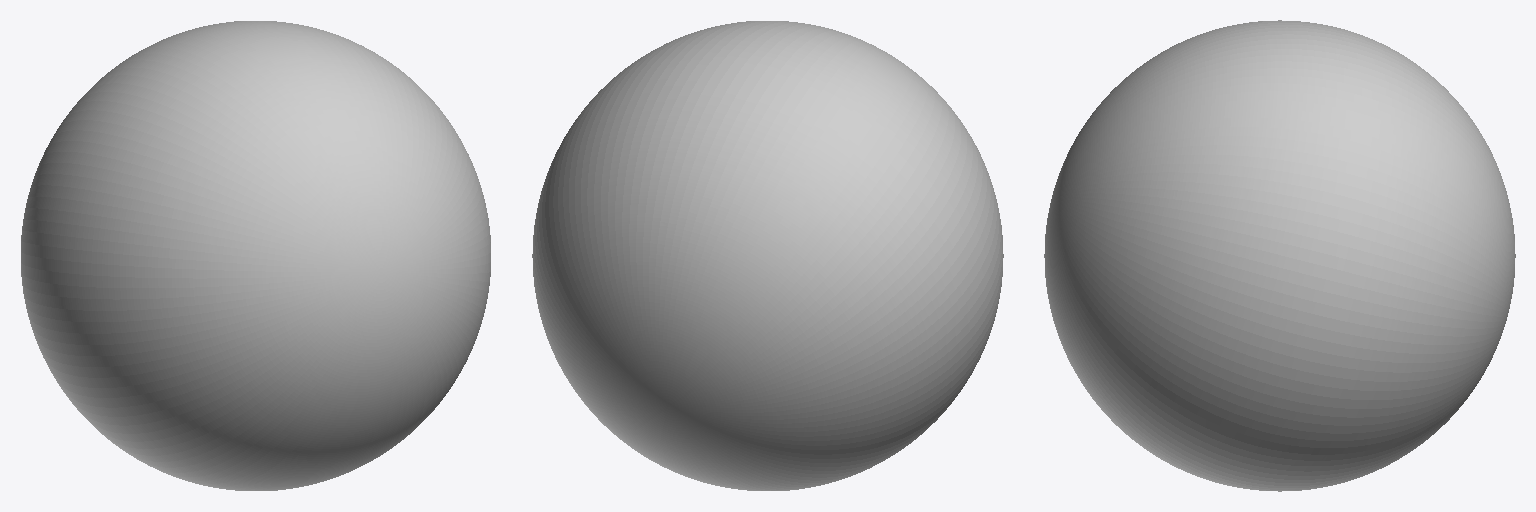
The model's file is sphereobj.obj.
3 views of the same model, side by side, from view 1: azimuth 30°, elevation 25°; view 2: azimuth 150°, elevation 25°; view 3: azimuth 270°, elevation 25° (orthographic).
Size of the model in its own units: 2 by 2 by 2.